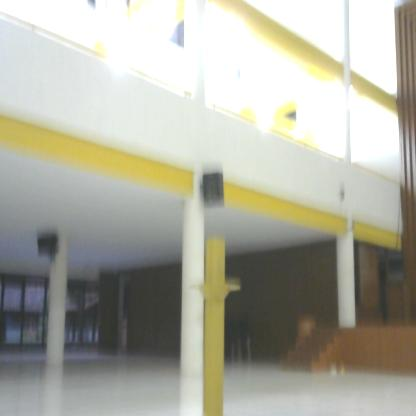pole: (187, 231, 244, 416)
